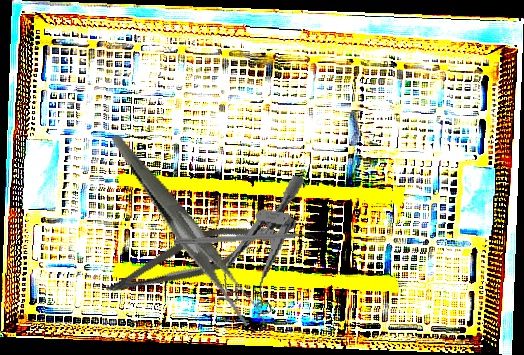Chopper: (173, 231, 319, 253)
Dressing Forceps: (111, 109, 265, 348)
Micro Scissor: (100, 209, 270, 315)
Speculum: (215, 166, 305, 324)
